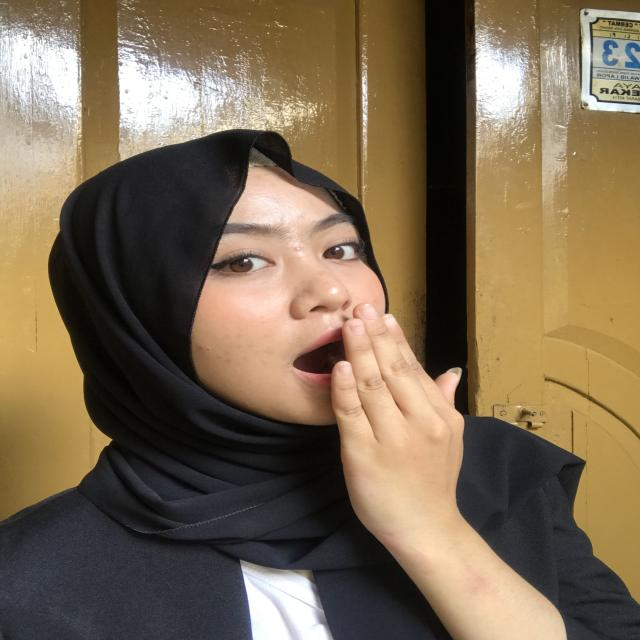ngantuk: (256, 296, 508, 520)
